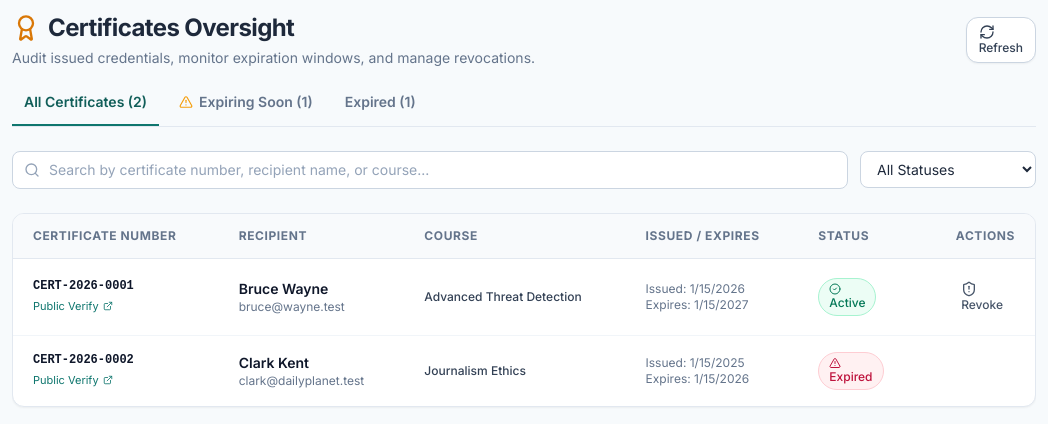
Test: AdminCertificatesPage › switches to Expiring Soon tab and shows expiring list
Expected: the text "CERT-2026-0001" is shown, x1=33 y1=279 x2=134 y2=293
Click the button "Expiring Soon (1)": (246, 109) x1=167 y1=92 x2=325 y2=126
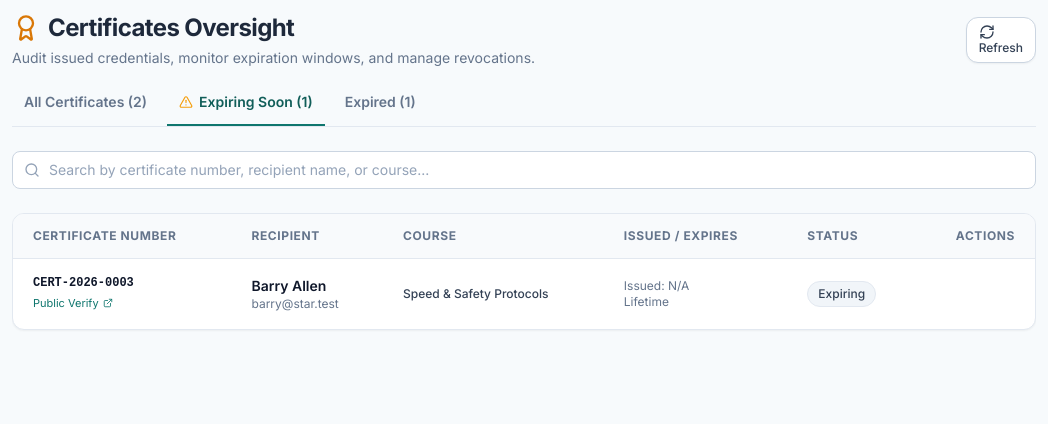
Expected: the text "CERT-2026-0003" is shown, x1=33 y1=276 x2=134 y2=290
Expected: the text "Barry Allen" is shown, x1=251 y1=277 x2=326 y2=294
